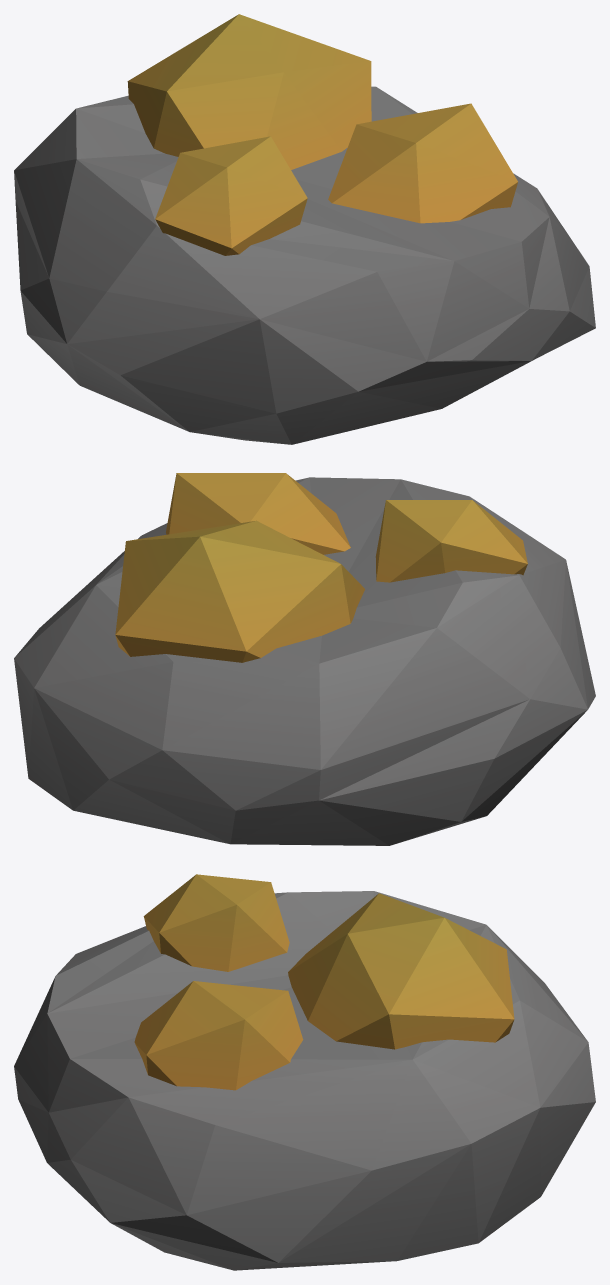
The model's file is min_1.glb.
The picture shows the model from 3 angles, top to bottom: view 1: azimuth 30°, elevation 25°; view 2: azimuth 150°, elevation 25°; view 3: azimuth 270°, elevation 25°; orthographic projection. The views are drawn at different scales.
Parts seen in each view (by area): view 1: crystal_basalt_green.011_SimplePolygonPalette_0; view 2: crystal_basalt_green.011_SimplePolygonPalette_0; view 3: crystal_basalt_green.011_SimplePolygonPalette_0.
Boxes of the visible parts, bbox=[...] form: crystal_basalt_green.011_SimplePolygonPalette_0: bbox=[14, 14, 595, 444]; crystal_basalt_green.011_SimplePolygonPalette_0: bbox=[14, 473, 595, 845]; crystal_basalt_green.011_SimplePolygonPalette_0: bbox=[14, 874, 595, 1270].
Bounding box in the file's own units: 1.92 × 1.05 × 2.01.
1 material, 1 textured.
